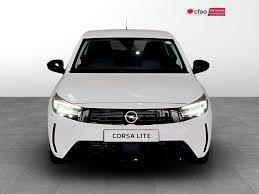opel: (123, 110, 139, 125)
